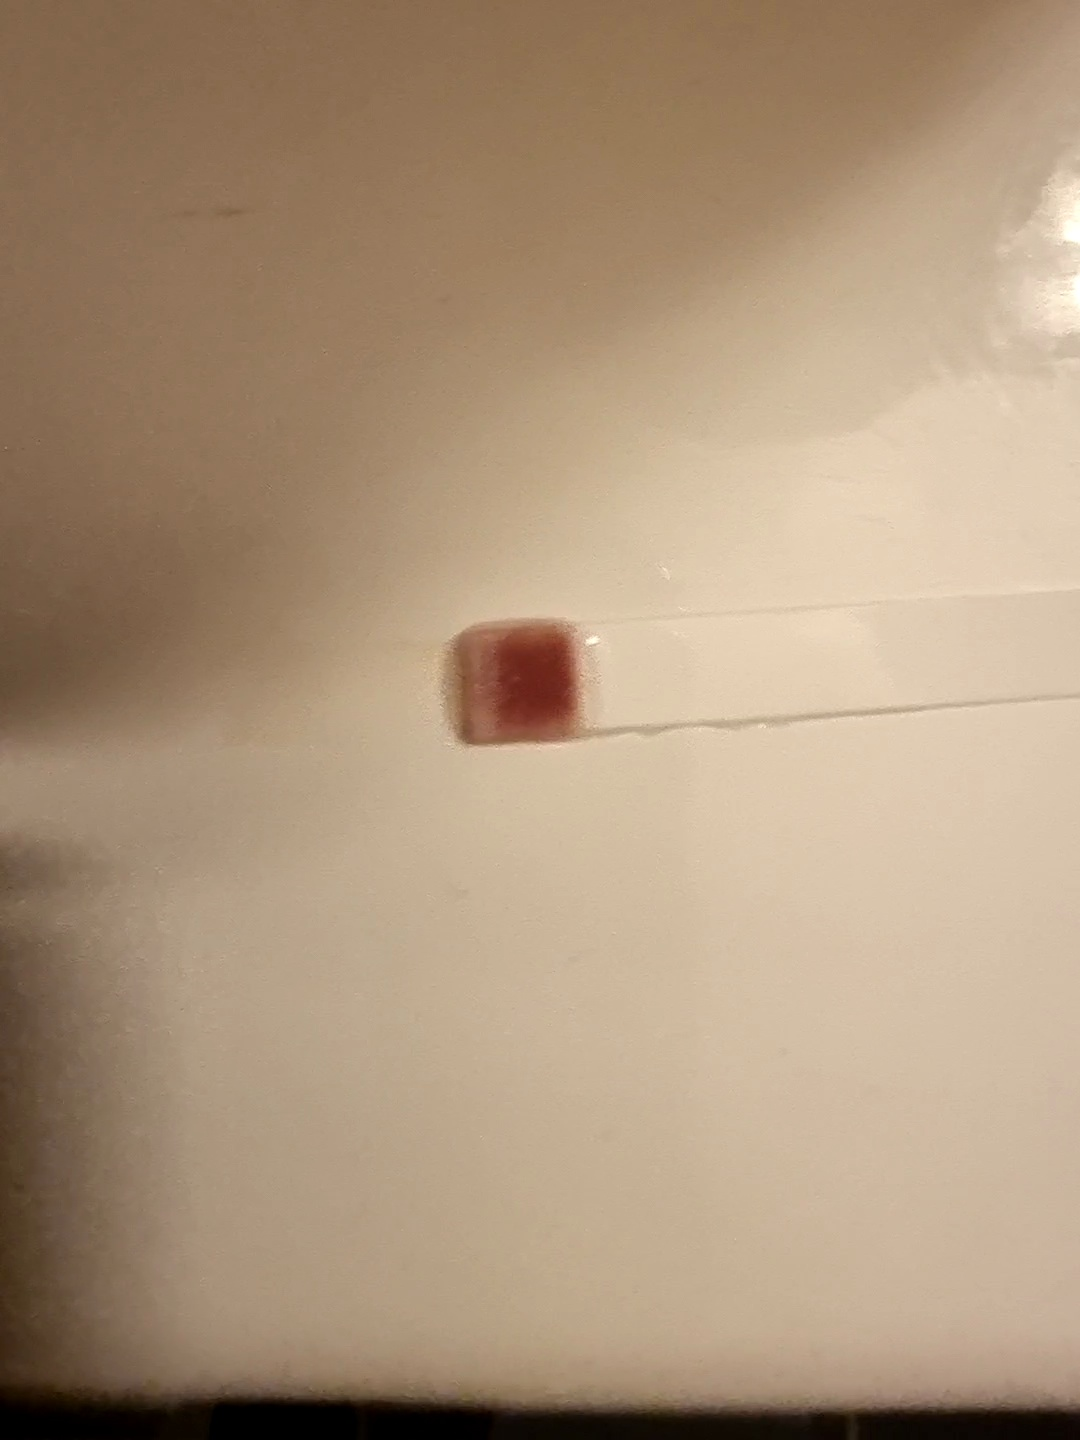keto-tip: (442, 616, 597, 752)
